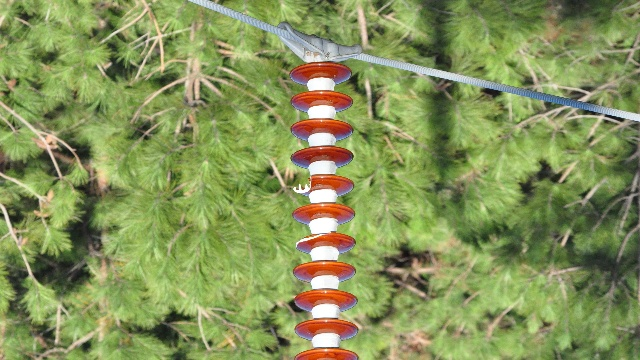broken_local: (293, 230, 332, 249), (293, 174, 316, 195)
insulator_unspecified: (289, 62, 360, 359)
